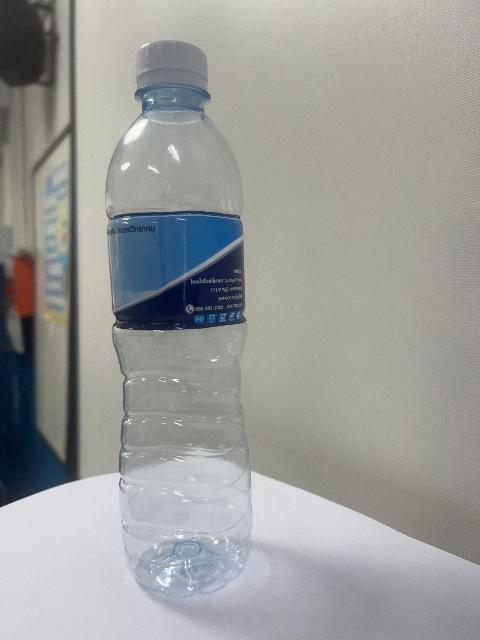bottle: (107, 41, 251, 596)
